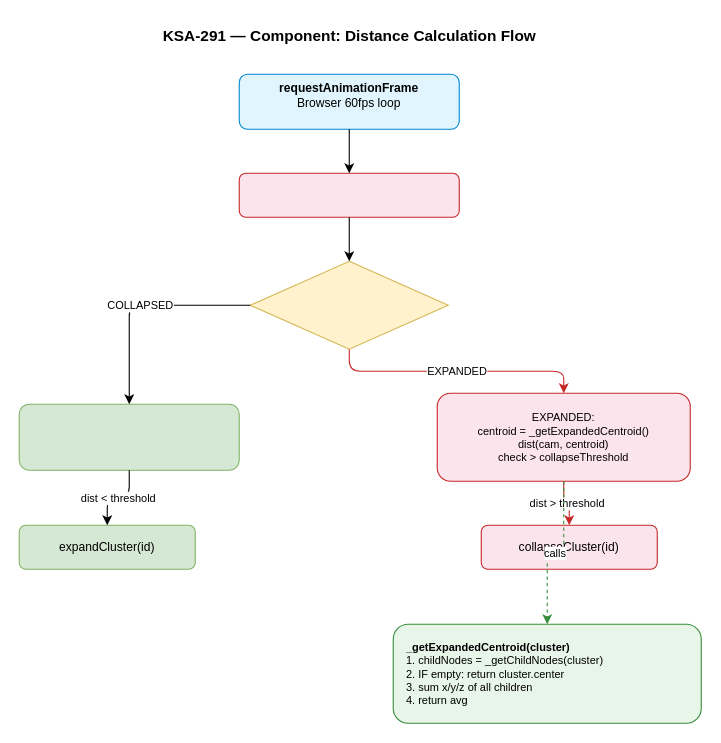
The diagram is 721 pixels wide and 743 high, and some of its shapes have lost their labels. Here are the shapes that lost their labels. From the top down, the centre of each, then its label:
At pixel 348 194: "_checkDistances()".
At pixel 348 304: "cluster.state?".
At pixel 128 436: "COLLAPSED: dist(cam, cluster.center) check < expandThreshold".
